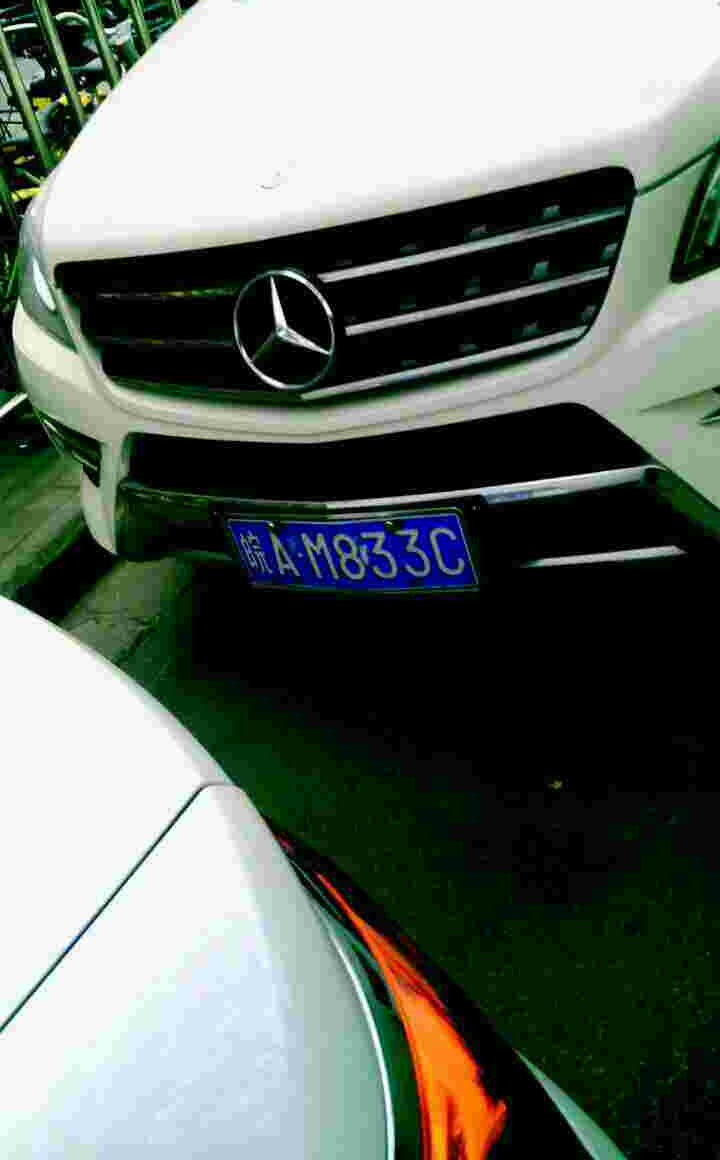plate: (216, 514, 485, 595)
